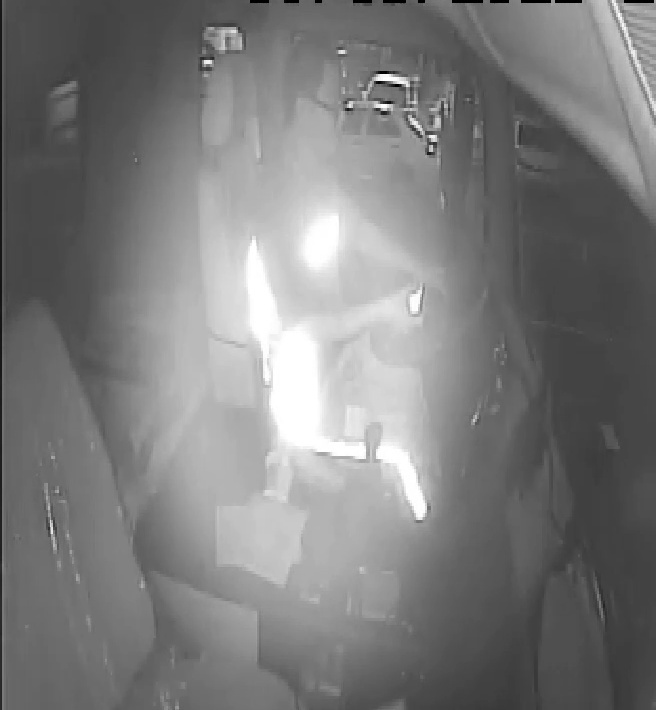cellphone: (394, 280, 429, 326)
